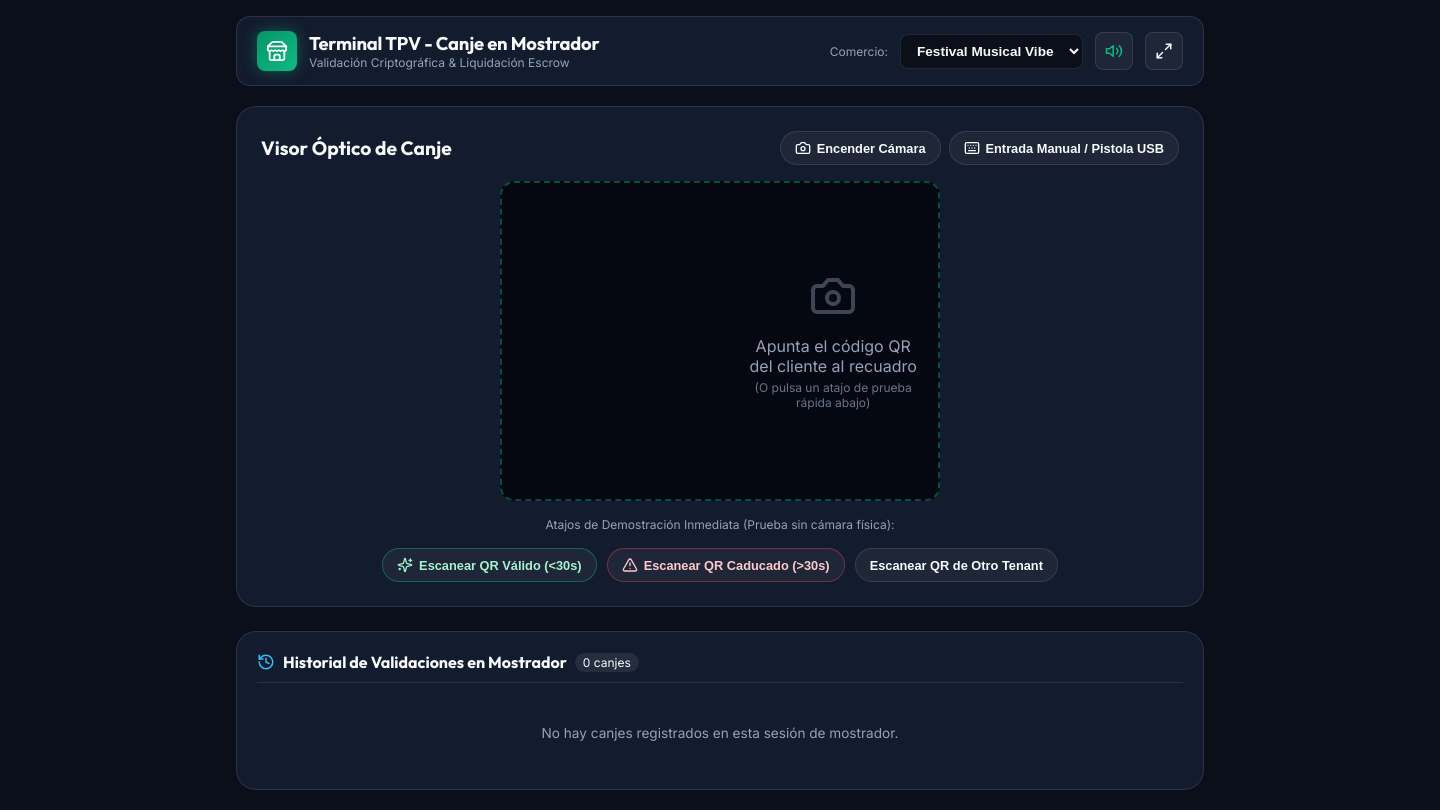
Terminal TPV - Scanner de Canje Físico (US-06 / TASK-008) › Debe procesar un canje válido (<30s), mostrar pantalla verde de éxito y registrar fondos liberados
The image size is (1440, 810).
Click the button "Escanear QR Válido (<30s)" at (489, 565), box [382,548,597,582]
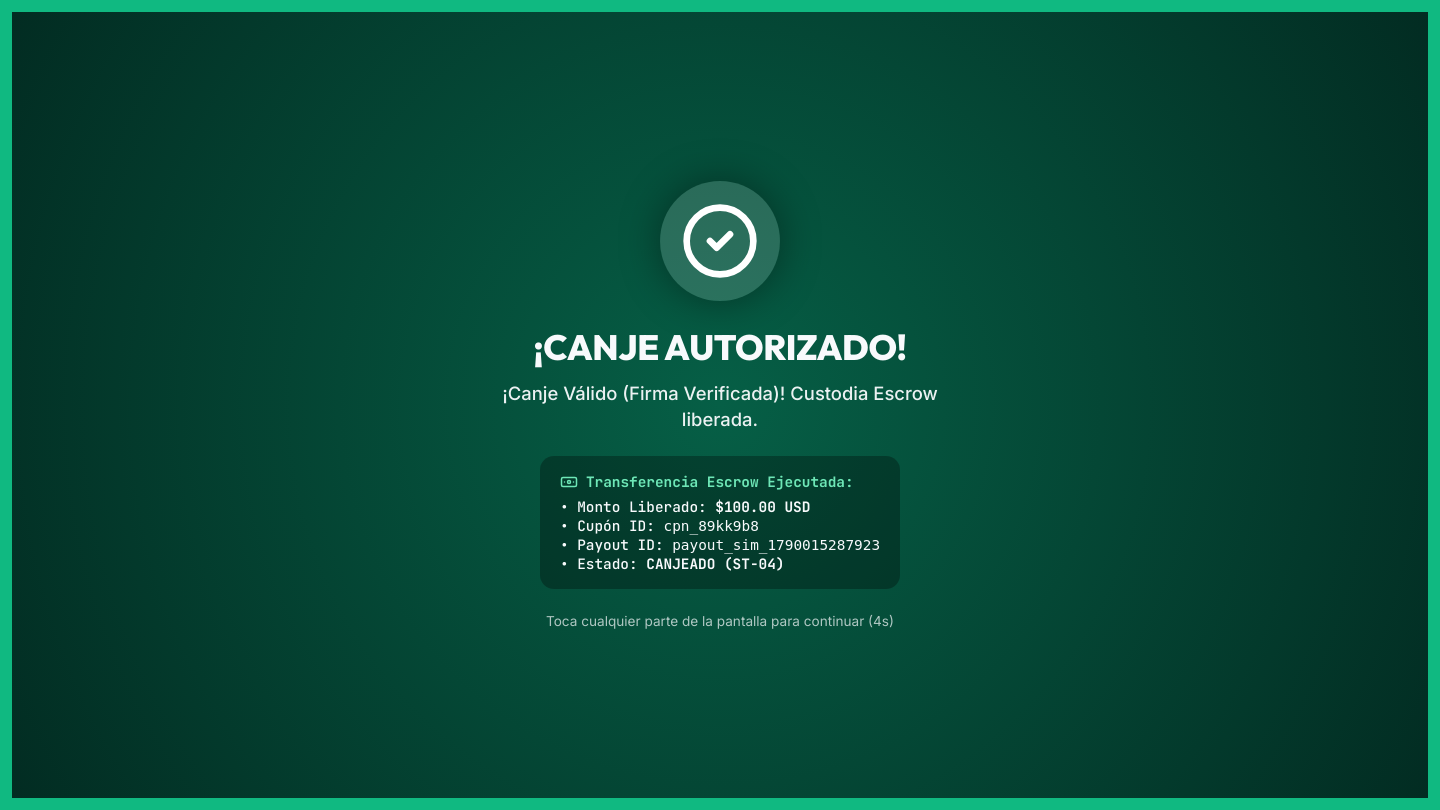
Now the heading "¡Canje Autorizado!" is shown, box [533,325,907,369]
Now the text "Transferencia Escrow Ejecutada:" is shown, box [586,472,854,491]
Now the text "CANJEADO (ST-04)" is shown, box [646,554,784,573]
